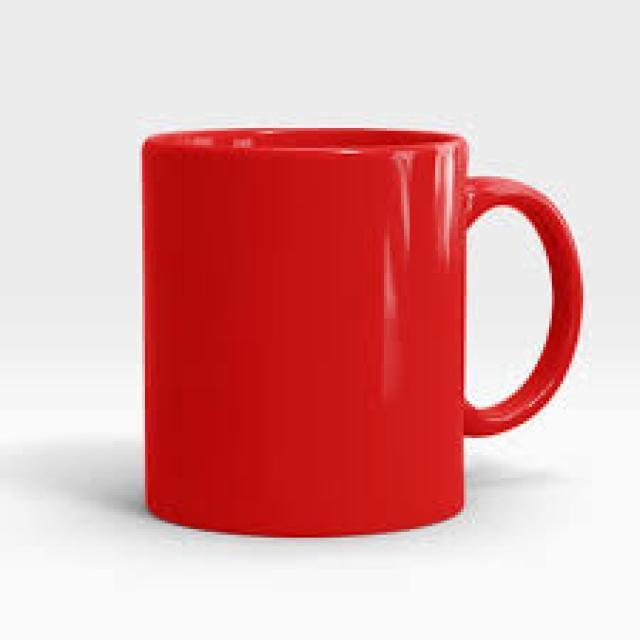taza: (122, 109, 596, 552)
